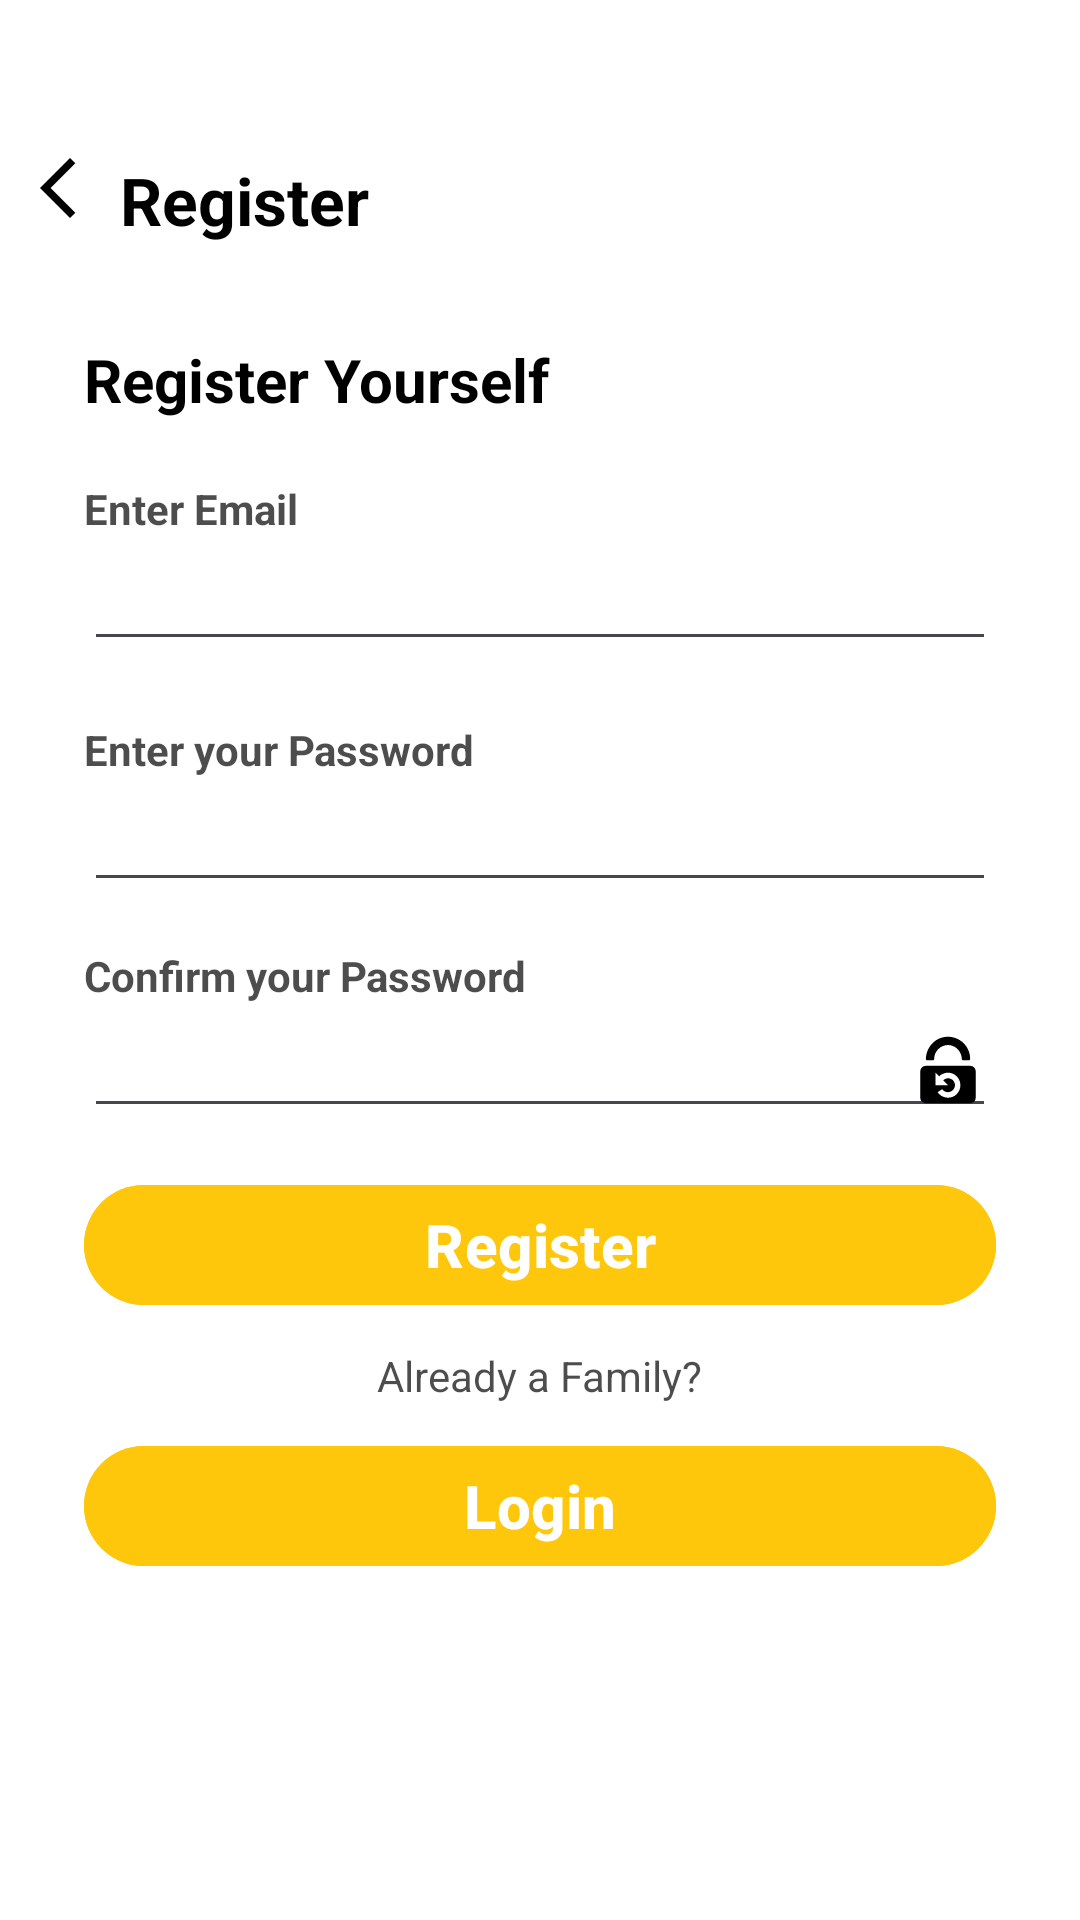

Locate icon controls on the screen. Image size 1080px×1920px, boxes as (x1, y1, x2, y2).
backarrow: (40, 158, 75, 218)
